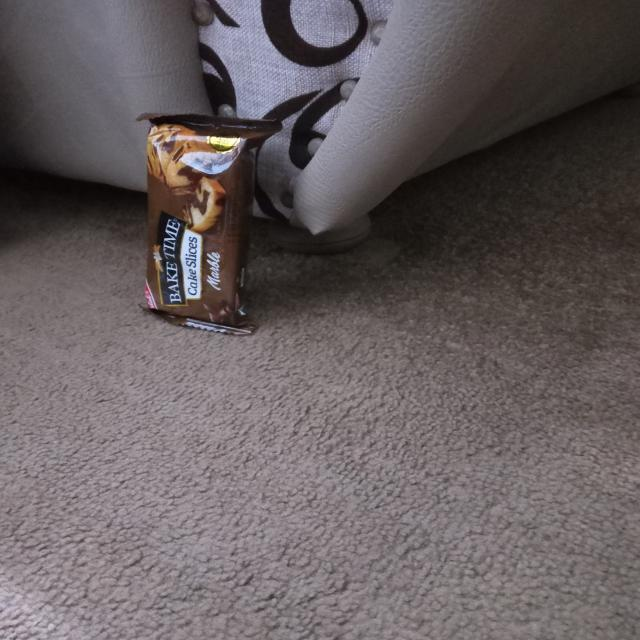Plastic: (137, 106, 266, 338)
